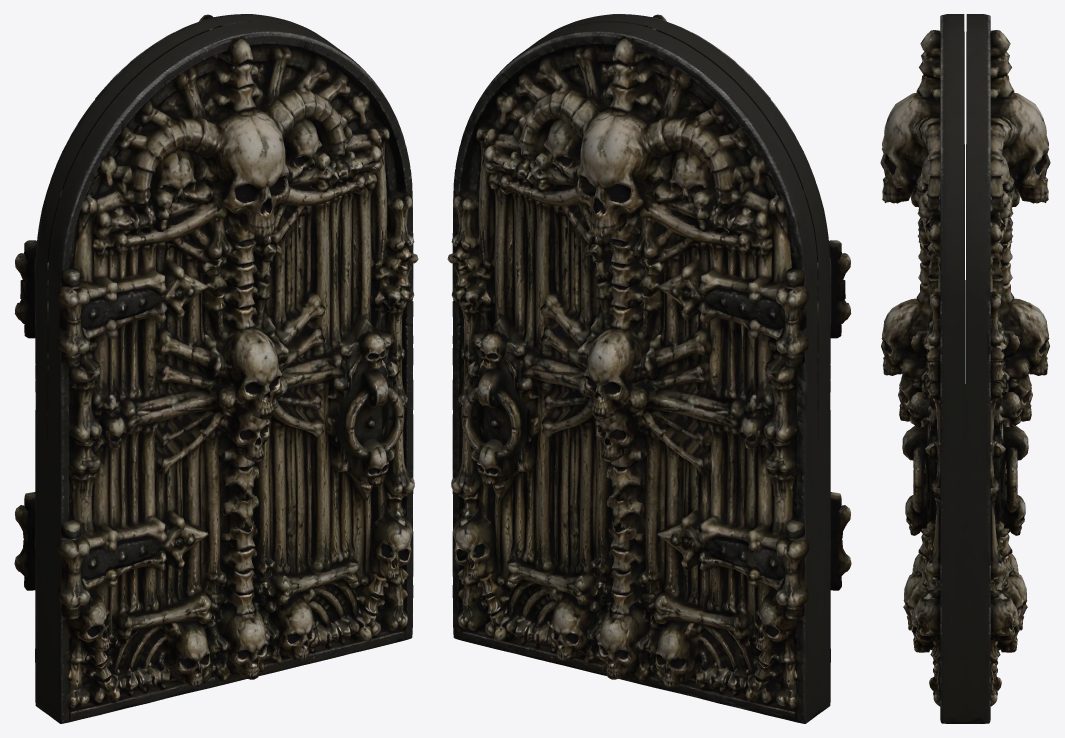
Rendered from Door_evil.fbx.
3 renders of one model, left to right at view 1: azimuth 30°, elevation 25°; view 2: azimuth 150°, elevation 25°; view 3: azimuth 270°, elevation 25°, orthographic. The views are drawn at different scales.
Visible parts, largest first — view 1: Door_evil; view 2: Door_evil; view 3: Door_evil.
Boxes of the visible parts, x1,y1,x2,y2 form: Door_evil: (14, 14, 418, 723); Door_evil: (447, 14, 851, 723); Door_evil: (880, 14, 1050, 723).
Size of the model in its own units: 130 by 222 by 55.71.
Materials: 1 (1 with a texture image).
